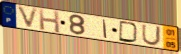8: (68, 15, 86, 36)
D: (118, 20, 140, 44)
H: (38, 8, 62, 34)
I: (102, 19, 109, 40)
U: (141, 24, 162, 47)
V: (15, 5, 41, 31)
